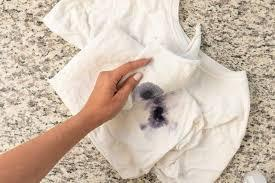ink: (140, 84, 163, 101), (149, 106, 167, 126)
